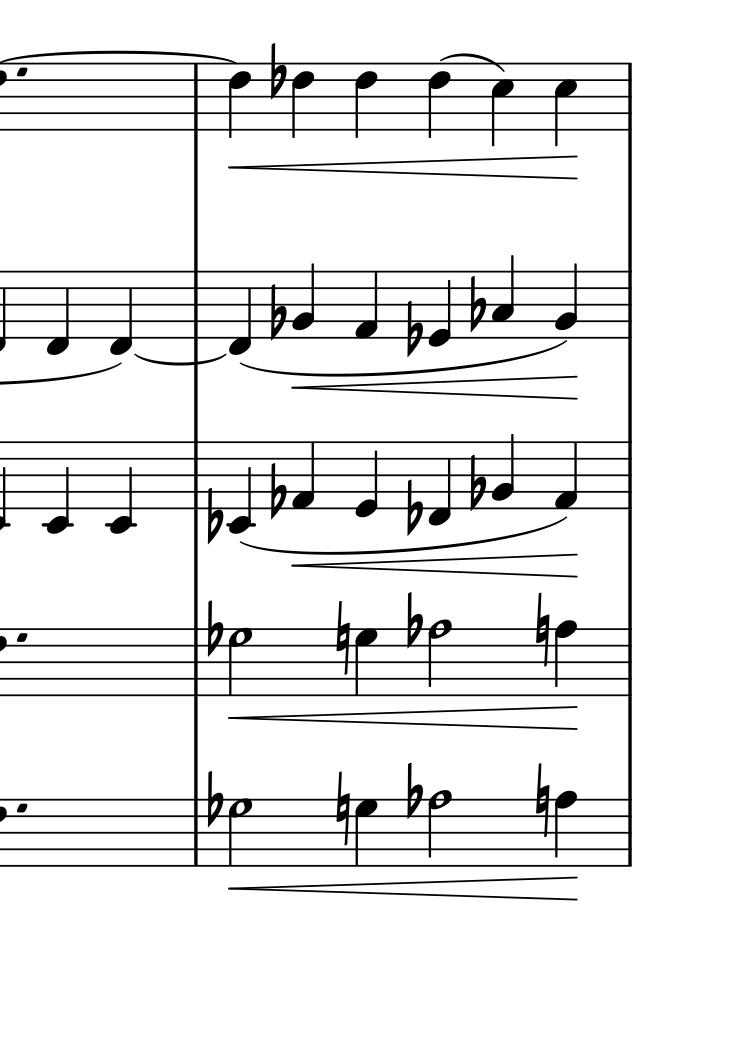2_7: (227, 628, 254, 698), (227, 799, 254, 868)
2_8: (426, 619, 453, 699), (426, 789, 452, 868)
4_-1: (108, 268, 134, 358), (227, 269, 253, 359), (46, 268, 71, 358), (429, 438, 453, 529)
4_-2: (106, 441, 135, 535), (43, 441, 71, 535), (227, 439, 253, 534)
4_0: (353, 441, 380, 519), (427, 270, 453, 350)
4_1: (352, 269, 380, 341), (551, 441, 579, 511), (291, 440, 317, 512)
4_2: (291, 260, 317, 341), (553, 261, 579, 341), (491, 431, 517, 511)
4_3: (491, 252, 516, 340)
4_5: (490, 60, 515, 150), (552, 61, 577, 151)
4_6: (227, 62, 252, 140), (353, 62, 378, 139), (291, 61, 315, 139), (427, 62, 451, 139)
4_7: (353, 625, 381, 697), (353, 798, 380, 868)
4_8: (552, 619, 577, 698), (553, 789, 577, 868)
Crescendo_hairpin: (228, 703, 579, 733), (228, 876, 578, 903), (293, 551, 578, 581), (293, 374, 581, 403)
Flat: (467, 452, 487, 513), (267, 282, 287, 341), (404, 477, 423, 538), (268, 461, 287, 521), (405, 588, 423, 651), (404, 299, 423, 358), (405, 760, 423, 820), (206, 596, 222, 663), (268, 41, 286, 100), (205, 486, 223, 545), (206, 769, 221, 830)
Natural: (533, 592, 551, 668), (333, 773, 351, 846), (533, 766, 551, 839), (334, 601, 352, 673)
Single_barline: (187, 265, 204, 352), (620, 630, 639, 695), (620, 272, 638, 338), (187, 442, 205, 508), (620, 443, 638, 508), (621, 63, 638, 129), (188, 64, 205, 130), (188, 629, 205, 695), (187, 800, 204, 866), (621, 800, 638, 866)
Slur: (237, 338, 570, 378), (241, 515, 567, 554), (1, 51, 238, 63), (440, 52, 507, 74), (134, 354, 228, 367)
dot: (14, 629, 30, 646), (14, 800, 30, 815), (14, 66, 30, 79)
